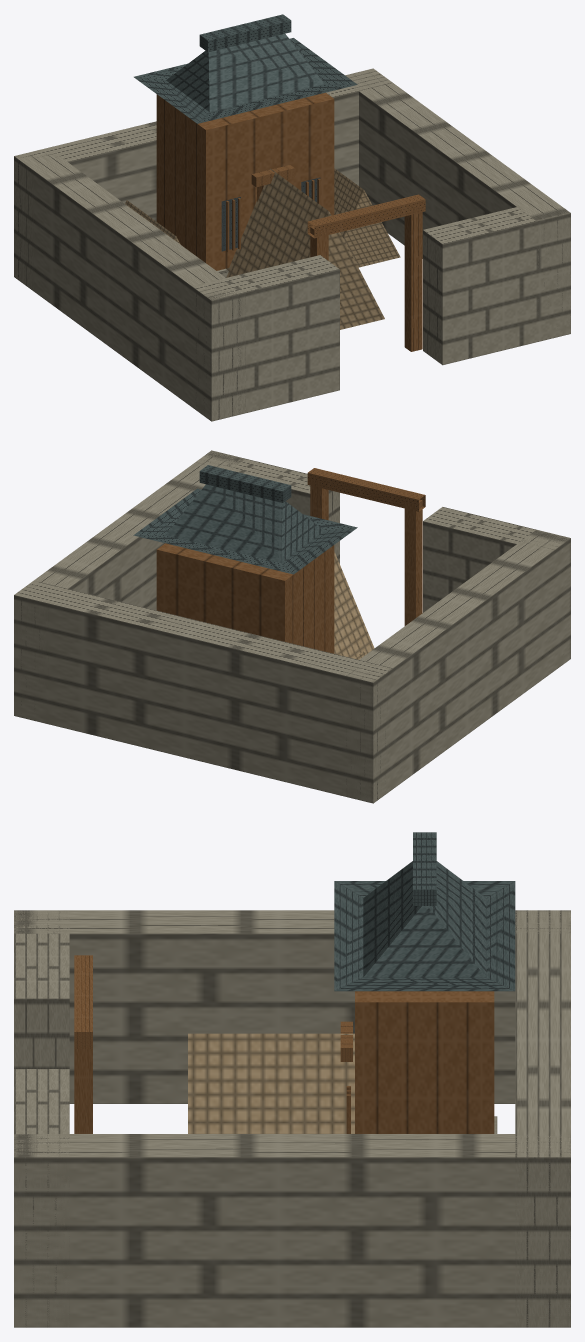
File: military-FORTRESS-1-lod1.glb
3 renders of one model, top to bottom at view 1: azimuth 30°, elevation 25°; view 2: azimuth 150°, elevation 25°; view 3: azimuth 270°, elevation 25°, orthographic. The views are drawn at different scales.
Bounding box in the file's own units: 0.84 × 0.544 × 0.8.
1 material, 1 textured.
